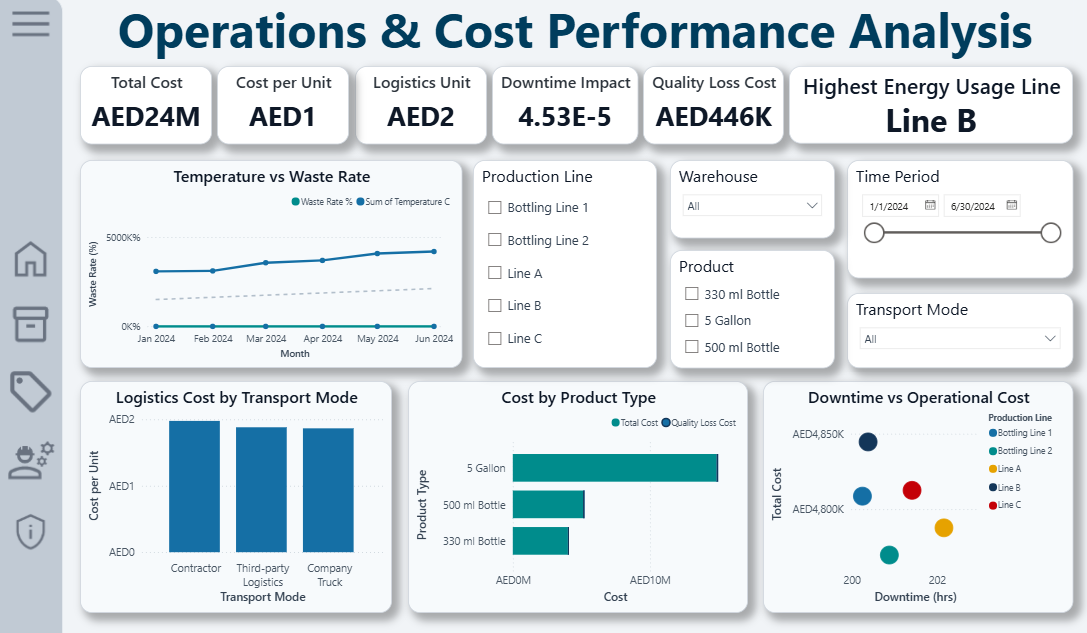

The page's visual inventory and layout, read from the dashboard file:
{"tool":"powerbi","page":{"name":"Operations Performance","canvas":[1360,800],"ordinal":3},"visuals":[{"type":"shape","box":[0,0,80,800],"z":0,"group":"g1"},{"type":"card","title":"Total Cost","fields":{"Values":["Measure Table.Total Cost"]},"box":[101.4,87.1,165,97.5],"z":0},{"type":"card","title":"Logistics Unit","fields":{"Values":["Measure Table.Cost per Dispatched unit"]},"box":[445.2,87.1,165,97.5],"z":1000},{"type":"actionButton","box":[0,378.5,80,63.3],"z":1000,"group":"g1"},{"type":"card","title":"Downtime Impact","fields":{"Values":["Measure Table.Downtime Impact Index"]},"box":[616.4,87.1,182.5,97.5],"z":2000},{"type":"actionButton","box":[0,294.9,80,67.1],"z":2000,"group":"g1"},{"type":"card","title":"Cost per Unit","fields":{"Values":["Measure Table.Cost per Bottle"]},"box":[272.7,87.1,165,97.5],"z":3000},{"type":"actionButton","box":[0,545.6,80,70.9],"z":3000,"group":"g1"},{"type":"card","title":"Quality Loss Cost","fields":{"Values":["Measure Table.Quality Loss Cost"]},"box":[805.2,87.1,176.2,97.5],"z":4000},{"type":"actionButton","box":[0,459.5,80,69.6],"z":4000,"group":"g1"},{"type":"lineChart","title":"Temperature vs Waste Rate","fields":{"Category":["Rawda_production_sales.Date Hierarchy.Month Year"],"Y":["Measure Table.Waste Rate %","Sum(Rawda_production_sales.Temperature C)"]},"box":[101.4,204.6,477.5,260],"z":5000},{"type":"actionButton","box":[0,636.7,80,67.1],"z":5000,"group":"g1"},{"type":"actionButton","box":[0,0,80,69.6],"z":6000,"group":"g1"},{"type":"barChart","title":"Cost by Product Type","fields":{"Category":["Rawda_production_sales.Product Type"],"Y":["Measure Table.Total Cost","Measure Table.Quality Loss Cost"]},"box":[511.4,480.9,425,290],"z":6000},{"type":"clusteredColumnChart","title":"Logistics Cost by Transport Mode","fields":{"Category":["Rawda_production_sales.Transport Mode"],"Y":["Measure Table.Cost per Dispatched unit"]},"box":[101.4,480.9,390,290],"z":7000},{"type":"scatterChart","title":"Downtime vs Operational Cost","fields":{"Y":["Measure Table.Total Cost"],"Series":["Rawda_production_sales.Production Line"],"X":["Measure Table.Total Downtime (Hour)"],"Size":["Measure Table.Total Production"]},"box":[955.2,480.9,387.5,290],"z":8000},{"type":"slicer","title":"Time Period","fields":{"Values":["Rawda_production_sales.Date"]},"box":[1060.2,204.6,282.5,147.5],"z":9000},{"type":"slicer","title":"Production Line","fields":{"Values":["Rawda_production_sales.Production Line"]},"box":[592.7,204.6,230,260],"z":10000},{"type":"slicer","title":"Transport Mode","fields":{"Values":["Rawda_production_sales.Transport Mode"]},"box":[1060.2,370.9,282.5,93.8],"z":11000},{"type":"slicer","title":"Warehouse","fields":{"Values":["Rawda_production_sales.Warehouse"]},"box":[838.9,204.6,206.2,97.5],"z":12000},{"type":"slicer","title":"Product","fields":{"Values":["Rawda_production_sales.Product Type"]},"box":[838.9,317.1,206.2,147.5],"z":13000},{"type":"card","title":"Highest Energy Usage Line","fields":{"Values":["Min(Rawda_production_sales.Production Line)"]},"box":[987.7,87.1,355,97],"z":14000},{"type":"group","id":"g1","title":"Group 1","box":[0,0,80,800],"z":15000},{"type":"shape","box":[97.1,0,1245.7,80],"z":16002}]}

Visuals, with their boxes on the page's 1360x800 design canvas (x1, y1, x2, y2). These are canvas units, not pixel positions in the 1087x633 screenshot, which may show the page scaled, cropped or inside an application window:
shape: {"x1": 0, "y1": 0, "x2": 80, "y2": 800}
"Total Cost" card: {"x1": 101, "y1": 87, "x2": 266, "y2": 185}
"Logistics Unit" card: {"x1": 445, "y1": 87, "x2": 610, "y2": 185}
actionButton: {"x1": 0, "y1": 378, "x2": 80, "y2": 442}
"Downtime Impact" card: {"x1": 616, "y1": 87, "x2": 799, "y2": 185}
actionButton: {"x1": 0, "y1": 295, "x2": 80, "y2": 362}
"Cost per Unit" card: {"x1": 273, "y1": 87, "x2": 438, "y2": 185}
actionButton: {"x1": 0, "y1": 546, "x2": 80, "y2": 616}
"Quality Loss Cost" card: {"x1": 805, "y1": 87, "x2": 981, "y2": 185}
actionButton: {"x1": 0, "y1": 460, "x2": 80, "y2": 529}
"Temperature vs Waste Rate" lineChart: {"x1": 101, "y1": 205, "x2": 579, "y2": 465}
actionButton: {"x1": 0, "y1": 637, "x2": 80, "y2": 704}
actionButton: {"x1": 0, "y1": 0, "x2": 80, "y2": 70}
"Cost by Product Type" barChart: {"x1": 511, "y1": 481, "x2": 936, "y2": 771}
"Logistics Cost by Transport Mode" clusteredColumnChart: {"x1": 101, "y1": 481, "x2": 491, "y2": 771}
"Downtime vs Operational Cost" scatterChart: {"x1": 955, "y1": 481, "x2": 1343, "y2": 771}
"Time Period" slicer: {"x1": 1060, "y1": 205, "x2": 1343, "y2": 352}
"Production Line" slicer: {"x1": 593, "y1": 205, "x2": 823, "y2": 465}
"Transport Mode" slicer: {"x1": 1060, "y1": 371, "x2": 1343, "y2": 465}
"Warehouse" slicer: {"x1": 839, "y1": 205, "x2": 1045, "y2": 302}
"Product" slicer: {"x1": 839, "y1": 317, "x2": 1045, "y2": 465}
"Highest Energy Usage Line" card: {"x1": 988, "y1": 87, "x2": 1343, "y2": 184}
"Group 1" group: {"x1": 0, "y1": 0, "x2": 80, "y2": 800}
shape: {"x1": 97, "y1": 0, "x2": 1343, "y2": 80}
